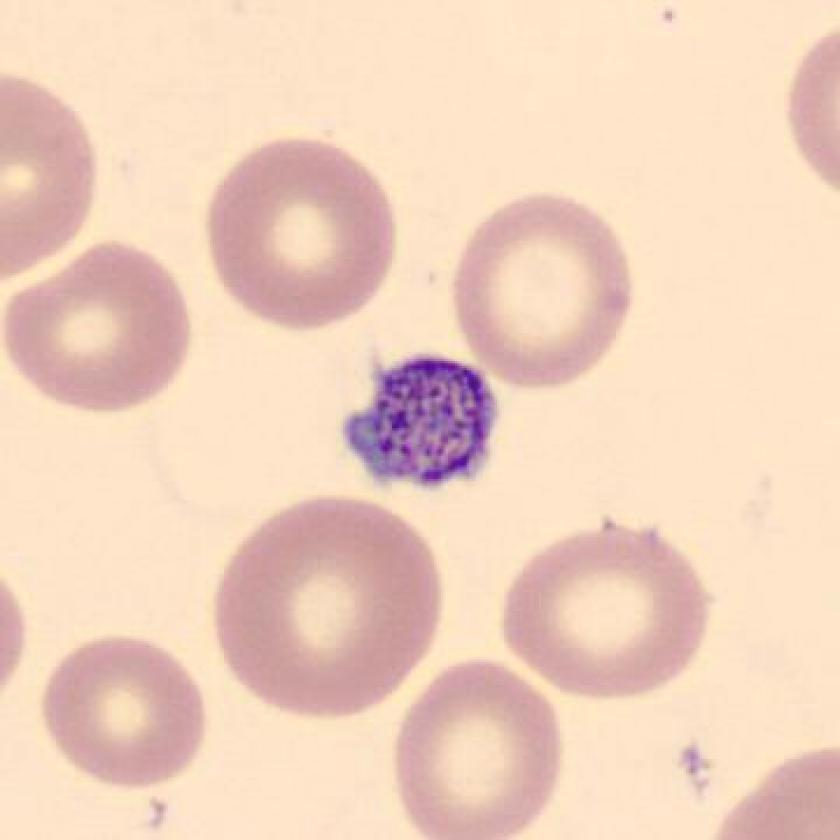platelets: (330, 343, 512, 501)
